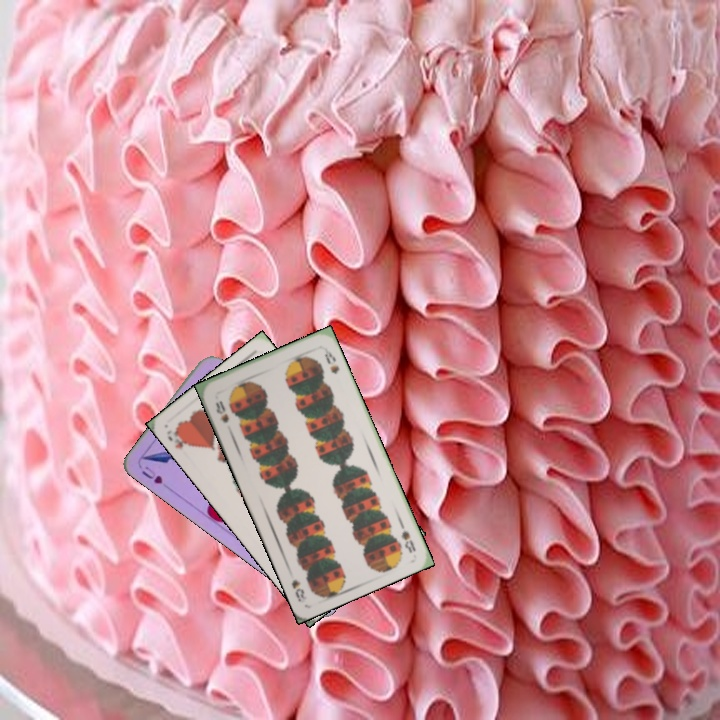HO: (163, 424, 193, 451)
HU: (138, 462, 165, 486)
S8: (395, 517, 418, 556), (212, 396, 232, 425)
